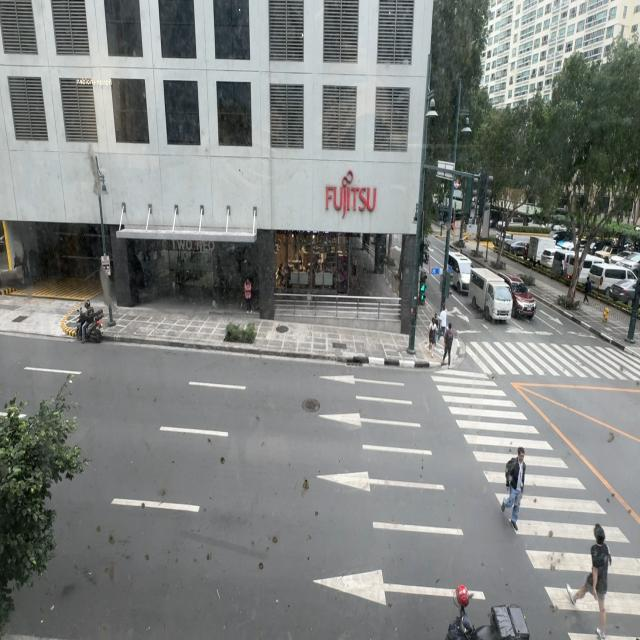crossing: (566, 522, 611, 639), (501, 447, 525, 531), (442, 323, 453, 367), (428, 318, 437, 358), (439, 305, 447, 342)
pedestrain: (244, 276, 252, 312), (584, 277, 592, 303)
